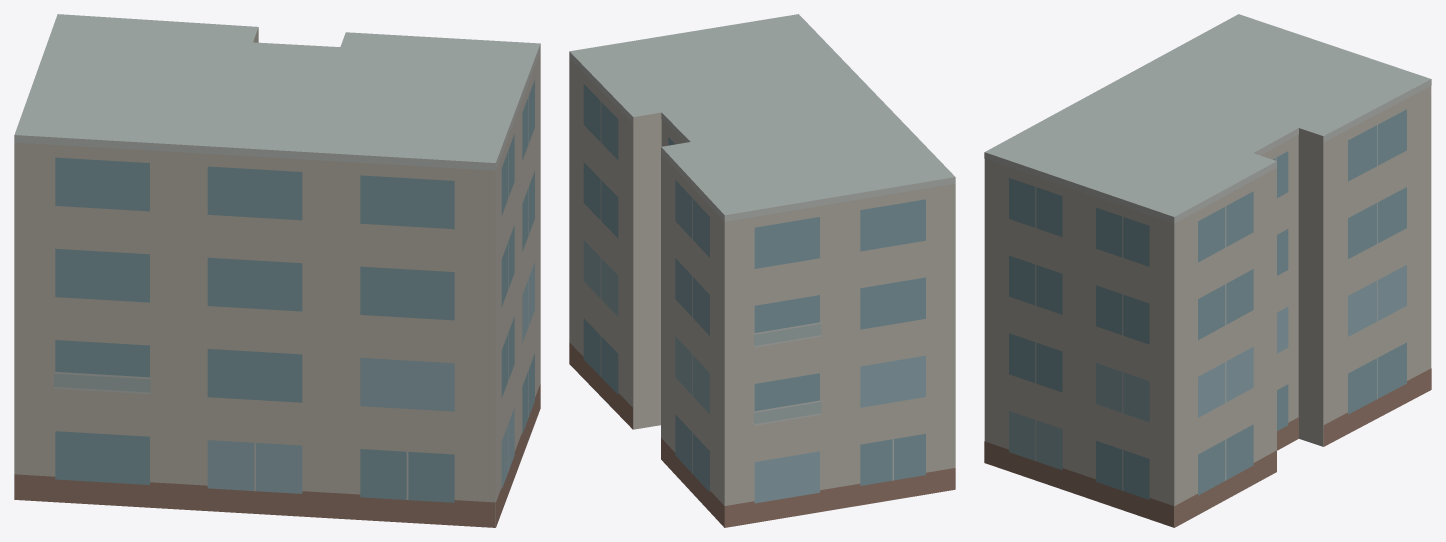
The model's file is survey-upis-32799612.glb.
3 views of the same model, side by side, from view 1: azimuth 30°, elevation 25°; view 2: azimuth 150°, elevation 25°; view 3: azimuth 270°, elevation 25° (orthographic). The views are drawn at different scales.
Parts seen in each view (by area): view 1: survey-upis-32799612.tmp; view 2: survey-upis-32799612.tmp; view 3: survey-upis-32799612.tmp.
Part boxes in pixels (x1,y1,x2,y2): survey-upis-32799612.tmp: (14, 14, 540, 527); survey-upis-32799612.tmp: (569, 14, 955, 527); survey-upis-32799612.tmp: (984, 14, 1431, 527).
Size of the model in its own units: 16.4 by 11.7 by 15.26.
